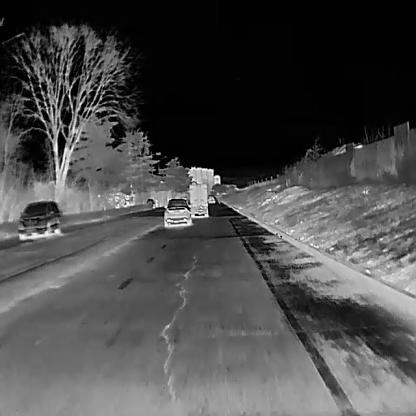car: (16, 199, 61, 237), (162, 196, 192, 226), (145, 196, 155, 209), (207, 195, 215, 203)
truck: (187, 181, 209, 217)
